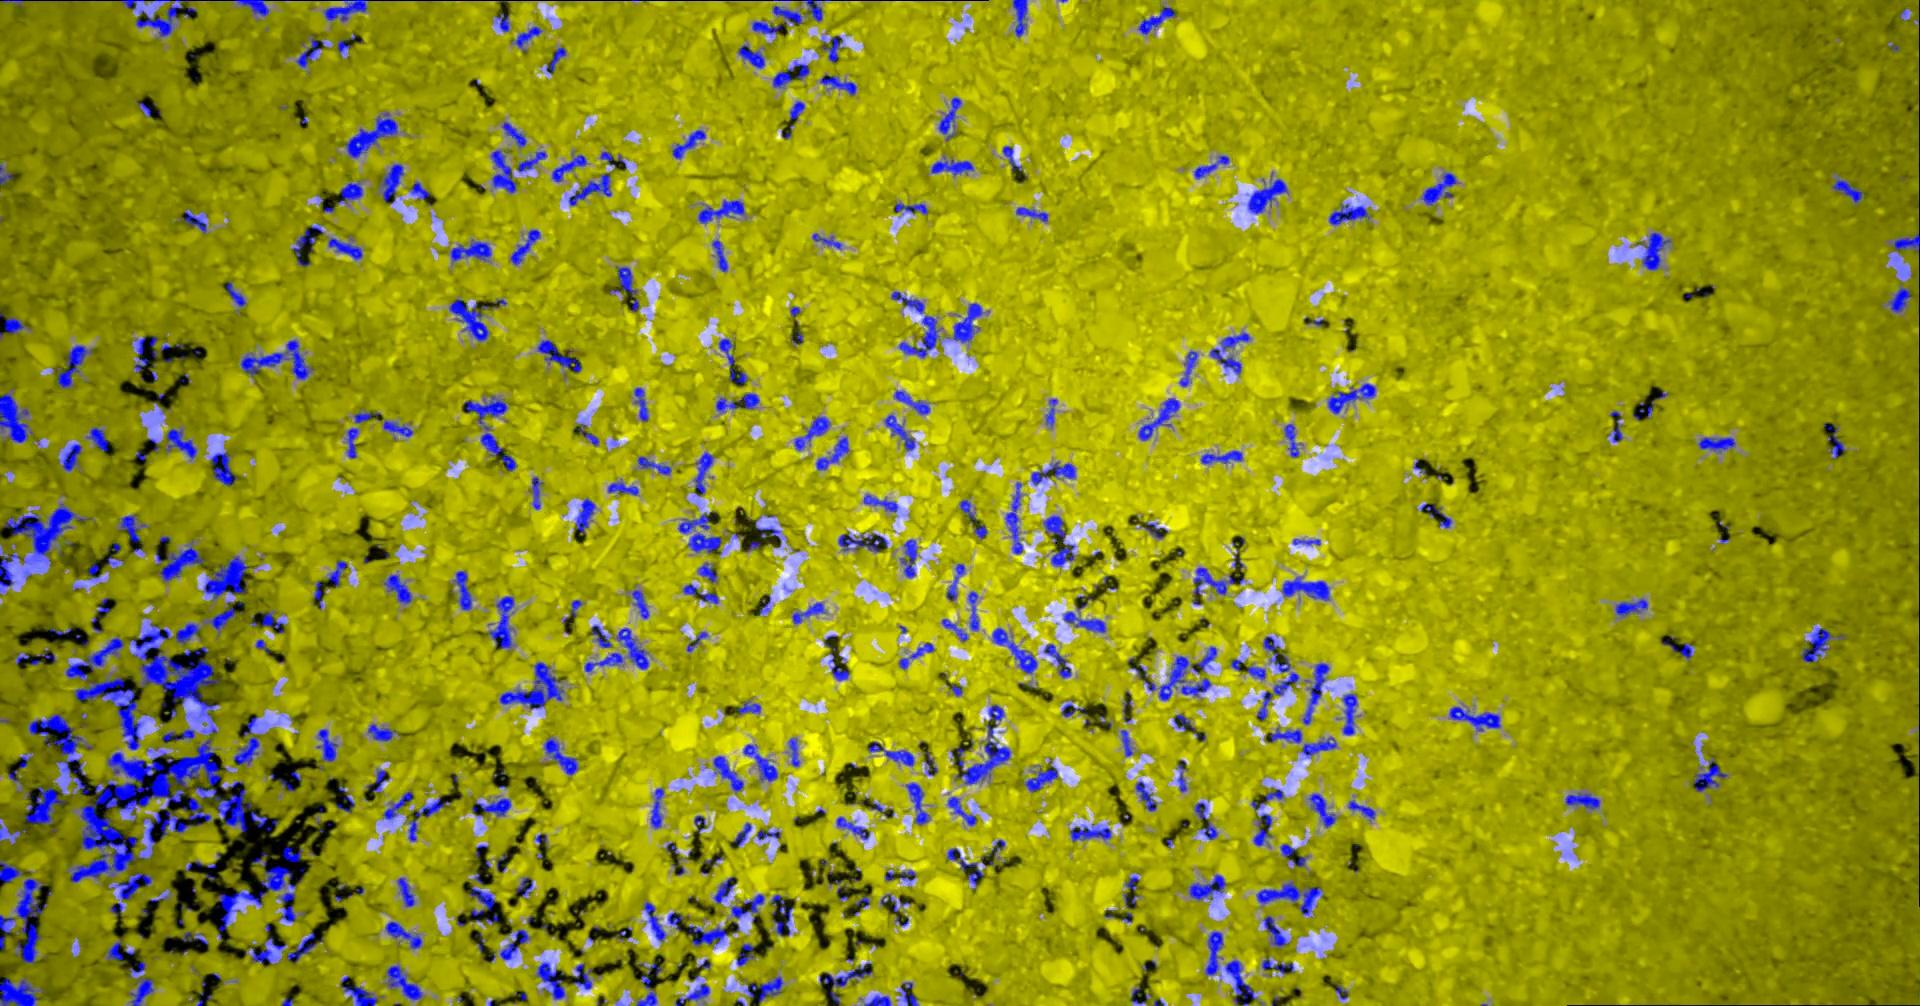ant: (147, 796, 210, 856), (1256, 636, 1298, 720), (1158, 647, 1217, 700), (239, 339, 312, 379), (65, 636, 123, 680), (344, 112, 397, 158), (448, 298, 505, 340), (1256, 882, 1323, 915), (992, 627, 1036, 673), (155, 540, 204, 580), (203, 555, 248, 600), (1192, 567, 1243, 605), (135, 0, 188, 36), (1302, 662, 1330, 724), (898, 315, 938, 357), (1209, 332, 1250, 373), (1138, 398, 1178, 439), (1043, 514, 1074, 567), (480, 426, 516, 471), (53, 345, 91, 387), (24, 786, 65, 824), (0, 392, 30, 442), (537, 339, 582, 372), (1247, 178, 1288, 213), (947, 848, 983, 889), (1327, 384, 1375, 413), (1225, 959, 1256, 1005), (615, 627, 648, 669), (568, 173, 611, 205), (488, 594, 513, 648), (717, 338, 745, 386), (608, 265, 637, 311), (730, 893, 763, 932), (292, 224, 323, 265), (1004, 481, 1022, 553), (743, 744, 777, 781), (1448, 706, 1500, 730), (819, 962, 871, 986), (232, 716, 259, 763), (1693, 756, 1727, 791), (543, 737, 577, 774), (794, 417, 829, 450), (386, 965, 422, 998), (463, 395, 505, 423), (1281, 575, 1330, 600), (635, 962, 662, 1005), (1421, 171, 1455, 205), (712, 754, 743, 791), (952, 304, 982, 342), (697, 199, 743, 224), (490, 149, 516, 192), (815, 436, 848, 469), (1801, 627, 1832, 662), (884, 414, 914, 450), (340, 976, 377, 1005), (1642, 232, 1670, 271), (0, 977, 38, 1005), (510, 229, 540, 264), (1138, 6, 1175, 34), (536, 962, 564, 998), (1031, 461, 1076, 484), (938, 97, 961, 140), (1189, 874, 1225, 901), (385, 921, 422, 948), (745, 976, 782, 1002), (378, 163, 403, 203), (323, 0, 367, 22), (670, 130, 705, 158), (1043, 643, 1070, 677), (905, 782, 928, 824), (116, 873, 151, 899), (772, 61, 809, 86), (204, 601, 235, 631), (643, 901, 665, 941), (499, 929, 530, 959), (296, 34, 324, 67), (210, 452, 237, 485), (551, 154, 585, 180), (1308, 793, 1335, 827), (450, 239, 491, 260), (1063, 611, 1105, 633), (166, 428, 196, 459), (880, 894, 909, 925), (286, 932, 316, 962), (893, 390, 930, 414), (838, 533, 888, 551), (770, 894, 791, 935), (677, 511, 715, 533), (133, 337, 157, 372), (947, 796, 977, 826), (715, 392, 759, 412), (693, 451, 712, 495), (1023, 766, 1057, 791), (1328, 203, 1369, 224), (687, 925, 728, 945), (383, 574, 411, 603), (1192, 155, 1228, 178), (836, 815, 869, 840), (819, 74, 856, 95), (1823, 422, 1845, 459), (1205, 931, 1223, 976), (383, 791, 411, 819), (930, 156, 973, 174), (1420, 503, 1451, 527), (1263, 915, 1288, 946), (471, 796, 510, 815), (328, 238, 362, 259), (674, 983, 709, 1005), (584, 652, 622, 671), (575, 498, 596, 533), (682, 583, 717, 603), (891, 291, 924, 312), (1832, 179, 1863, 202), (687, 532, 721, 553), (415, 796, 450, 817), (1178, 351, 1197, 386), (737, 44, 764, 69), (792, 602, 825, 622), (829, 647, 850, 680), (316, 728, 337, 761), (1250, 789, 1283, 809), (1069, 823, 1110, 840), (510, 25, 541, 47), (1661, 636, 1691, 658), (946, 563, 964, 600), (455, 570, 471, 610), (502, 121, 526, 147), (1887, 286, 1911, 312), (130, 977, 152, 1005), (899, 539, 916, 577), (516, 151, 546, 171), (1135, 780, 1156, 810), (469, 887, 494, 911), (941, 619, 968, 641), (1302, 737, 1336, 754), (803, 0, 830, 22), (1347, 799, 1375, 821), (119, 513, 140, 542), (637, 456, 670, 474), (1200, 450, 1242, 464), (1130, 666, 1154, 690), (982, 840, 1004, 865), (712, 876, 734, 903), (1342, 694, 1356, 734), (1564, 793, 1599, 809), (1253, 813, 1271, 845), (1698, 437, 1735, 452), (772, 5, 801, 24), (276, 892, 295, 921), (182, 210, 206, 232), (366, 768, 389, 793), (822, 36, 843, 61), (337, 182, 362, 203), (573, 423, 598, 445), (175, 622, 201, 644), (863, 494, 897, 511), (232, 0, 268, 15), (1002, 145, 1022, 171), (607, 478, 637, 495), (1266, 727, 1302, 742), (62, 443, 81, 471), (711, 239, 728, 271), (1615, 598, 1647, 615), (1261, 956, 1293, 973), (86, 427, 108, 451), (631, 589, 649, 619), (225, 281, 245, 306), (546, 46, 565, 72), (1892, 232, 1919, 251), (573, 963, 592, 989), (632, 387, 648, 420), (650, 788, 663, 827), (1012, 0, 1026, 36), (0, 860, 23, 882), (754, 520, 780, 539), (397, 876, 414, 906), (1284, 423, 1298, 457), (0, 915, 14, 949), (335, 785, 353, 812), (262, 611, 283, 633), (1123, 876, 1138, 907), (1015, 207, 1048, 221), (328, 560, 345, 586), (811, 232, 841, 248), (884, 749, 913, 765), (750, 20, 782, 34), (367, 724, 394, 741), (107, 939, 123, 965), (1632, 400, 1653, 420), (590, 625, 611, 647), (686, 631, 707, 652), (733, 822, 750, 846), (900, 981, 918, 1005), (383, 420, 411, 436), (1139, 523, 1167, 539), (1062, 700, 1087, 716), (251, 942, 272, 963), (345, 427, 358, 459), (163, 728, 194, 741), (968, 591, 978, 630), (410, 180, 430, 199), (697, 561, 716, 582), (909, 641, 935, 657), (0, 826, 25, 841), (959, 499, 977, 521), (894, 202, 927, 213), (531, 476, 542, 509), (737, 942, 753, 965), (30, 649, 55, 664), (282, 845, 302, 862), (1173, 714, 1195, 730), (1610, 410, 1622, 441), (182, 931, 208, 944), (1232, 541, 1243, 570), (1045, 398, 1057, 426), (1200, 821, 1217, 840), (516, 876, 532, 895), (3, 318, 23, 333), (184, 860, 215, 870), (1120, 729, 1131, 756), (789, 737, 799, 766), (667, 912, 683, 930), (789, 102, 804, 121), (737, 701, 759, 714), (312, 580, 323, 608), (1177, 760, 1186, 791), (924, 751, 936, 775), (0, 163, 13, 184), (353, 412, 380, 422), (863, 995, 890, 1005), (495, 11, 509, 30), (1246, 666, 1265, 680), (1280, 843, 1297, 859), (97, 597, 110, 615), (1194, 801, 1208, 819), (756, 829, 780, 840), (599, 151, 615, 166), (128, 962, 145, 976), (758, 594, 770, 614), (183, 647, 207, 655), (693, 815, 705, 833), (88, 563, 99, 579), (570, 600, 582, 616), (899, 869, 916, 880), (1291, 539, 1321, 545), (119, 0, 143, 8), (408, 819, 417, 840), (469, 908, 483, 921), (1335, 984, 1347, 998), (337, 39, 349, 52), (974, 525, 985, 539), (18, 753, 29, 767), (867, 741, 883, 751), (110, 902, 122, 915)
